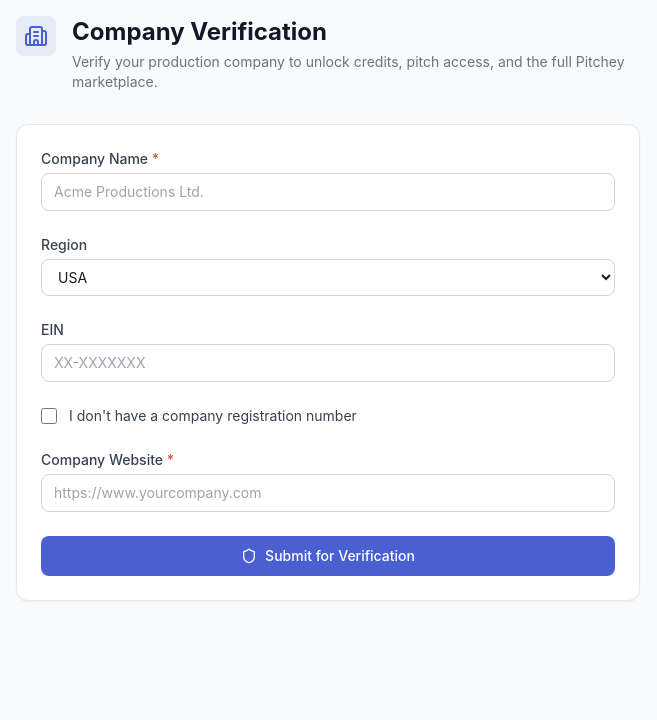
Test: ProductionVerification › shows insurance upload section when "no company number" is checked
This screenshot has width=657, height=720.
Click the checkbox labelled "I don't have a company registration number" at (49, 416), box [41,408,57,424]
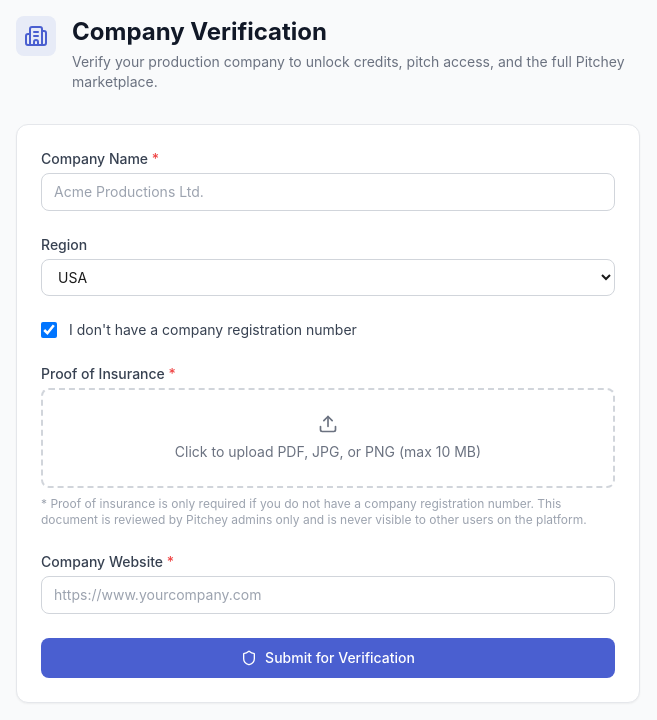
Expected: the text "Click to upload PDF, JPG, or PNG (max 10 MB)" is shown, [175,442,481,462]
